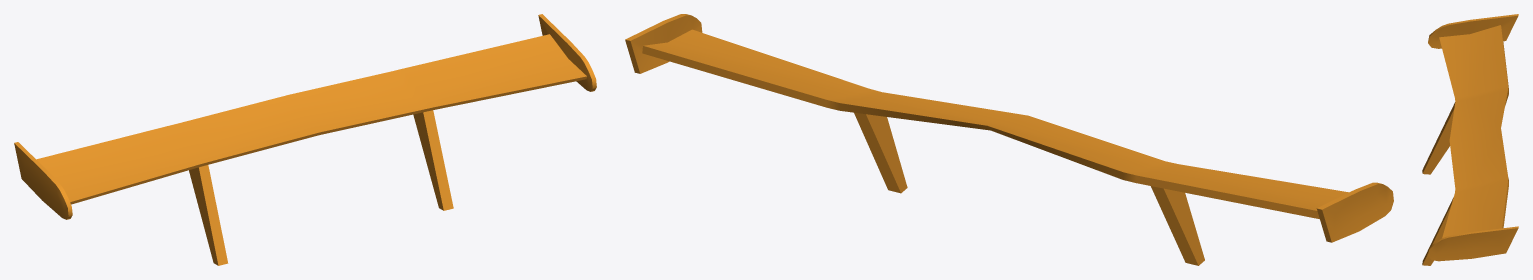
Rendered from protoCompact_spoiler_2.glb.
The picture shows the model from 3 angles, left to right: view 1: azimuth 30°, elevation 25°; view 2: azimuth 150°, elevation 25°; view 3: azimuth 270°, elevation 25°; orthographic projection. The views are drawn at different scales.
Visible parts, largest first — view 1: spoiler_2; view 2: spoiler_2; view 3: spoiler_2.
Boxes of the visible parts, x1,y1,x2,y2 form: spoiler_2: (14,14,596,265); spoiler_2: (625,14,1393,265); spoiler_2: (1422,14,1518,265).
Size of the model in its own units: 1.54 by 0.3255 by 0.2915.
